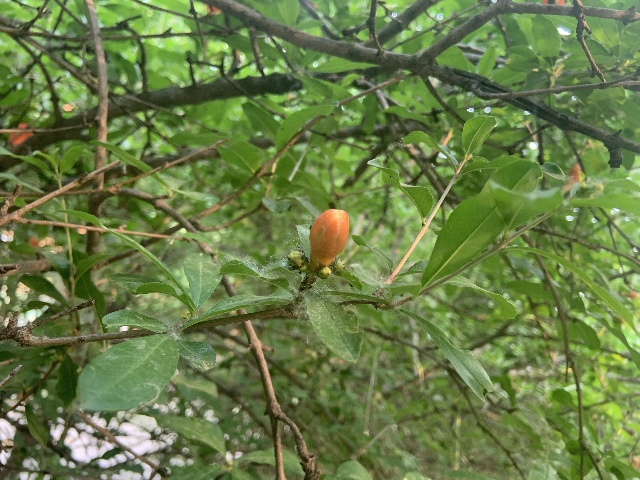bud: (309, 208, 349, 271)
